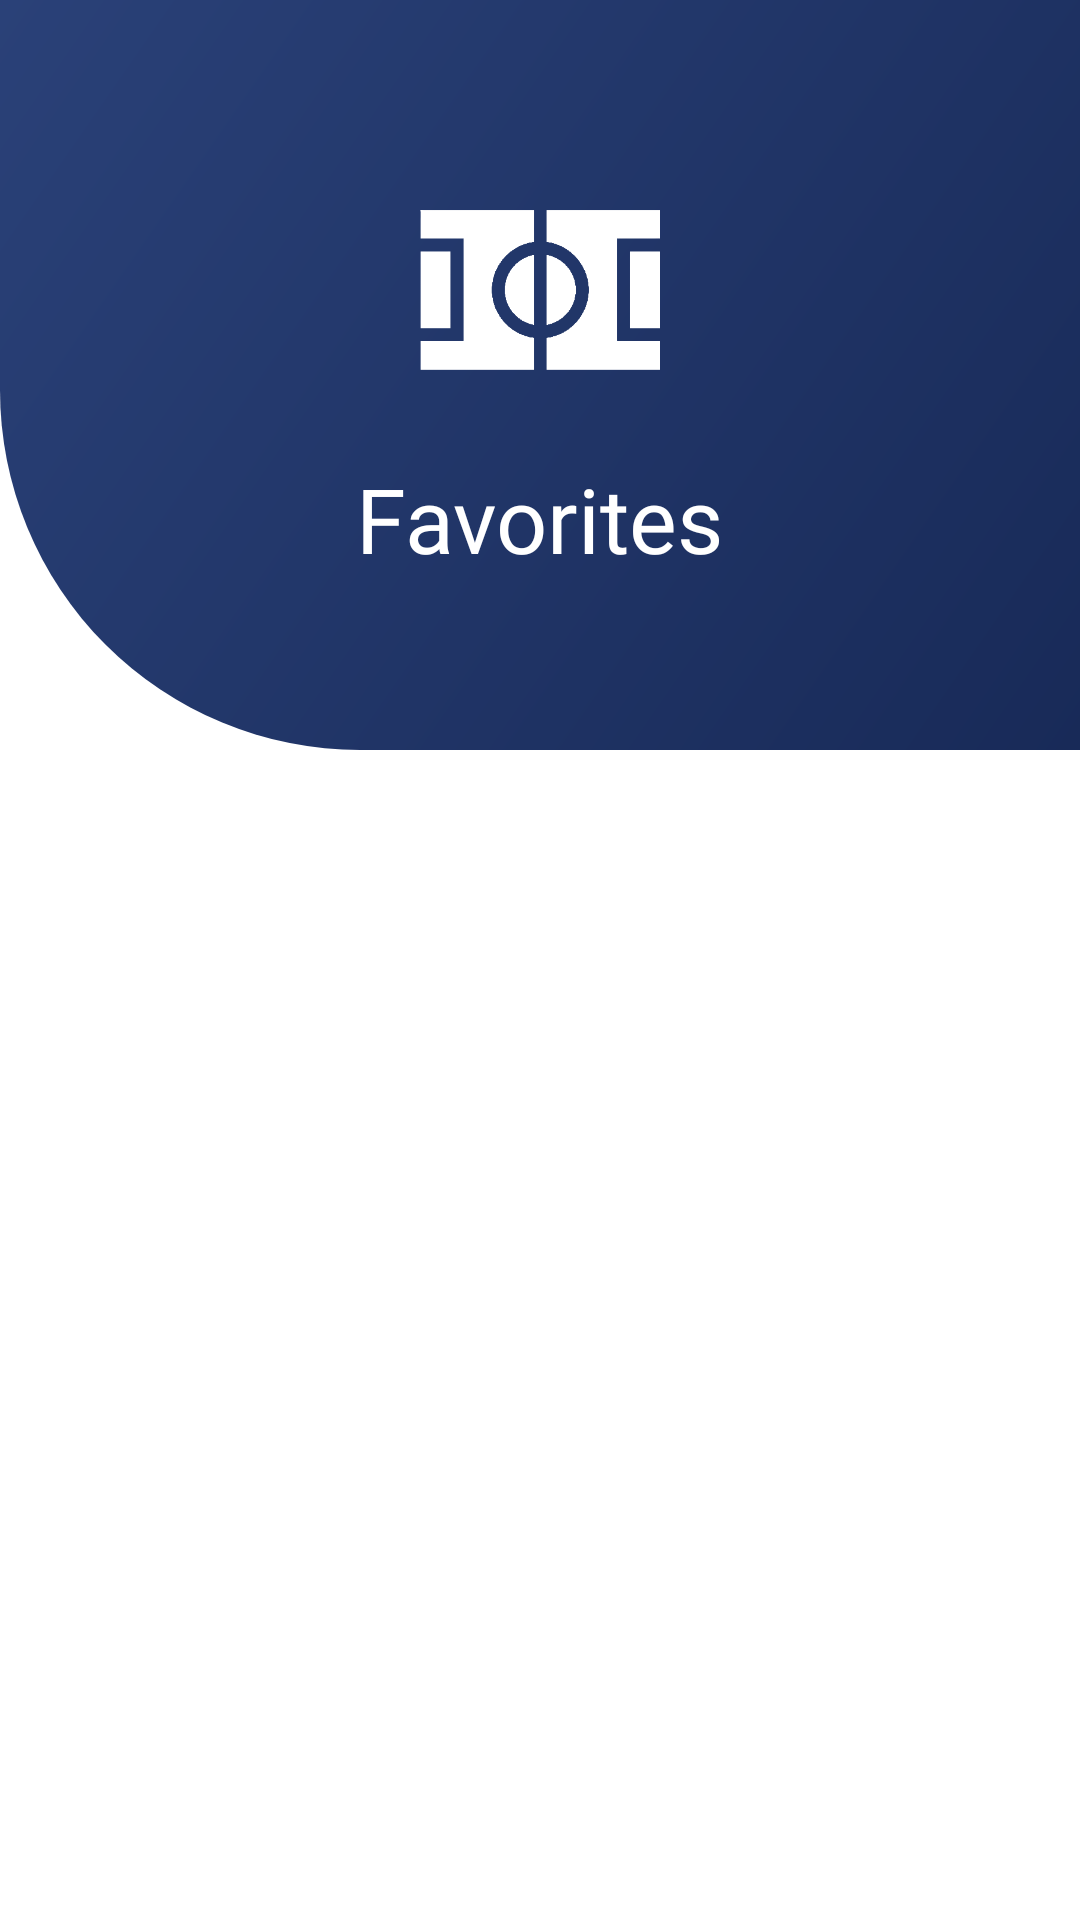

Icon click points for this 1080x1920 phone screenshot, format (x=x, y=y):
App Icon: (x=540, y=290)
